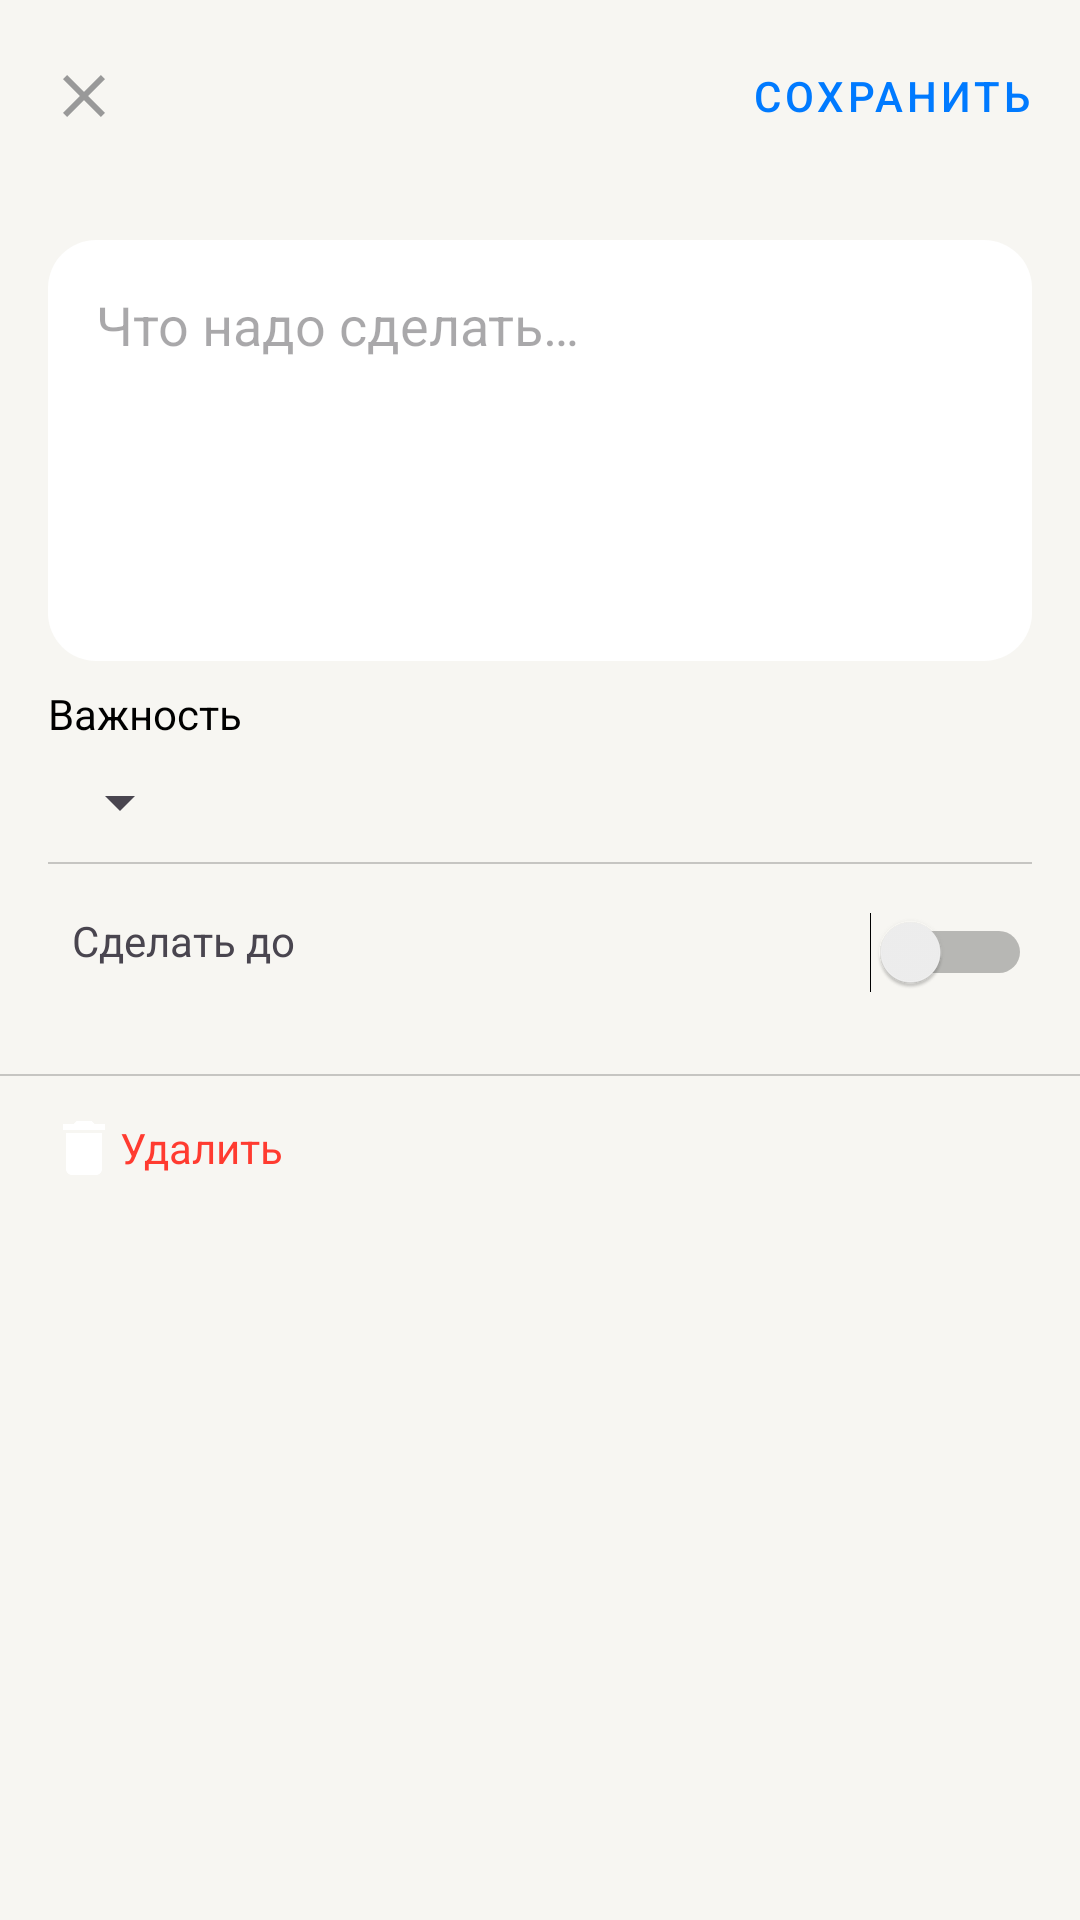

Icons on this 1080w x 1920h Android screen, each with the point to tap as point (x, y):
Закрыть: point (84, 96)
